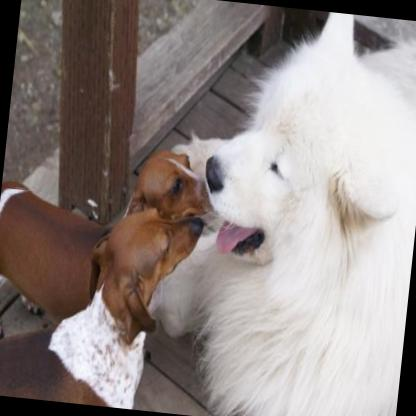Samoyed: (132, 0, 416, 416)
